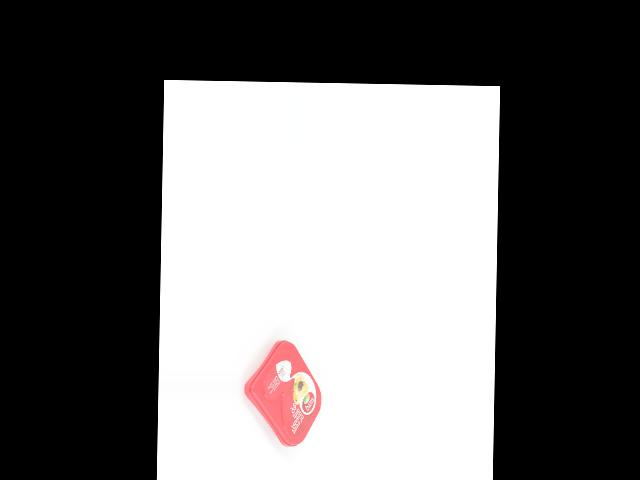cheese: (242, 339, 322, 447)
